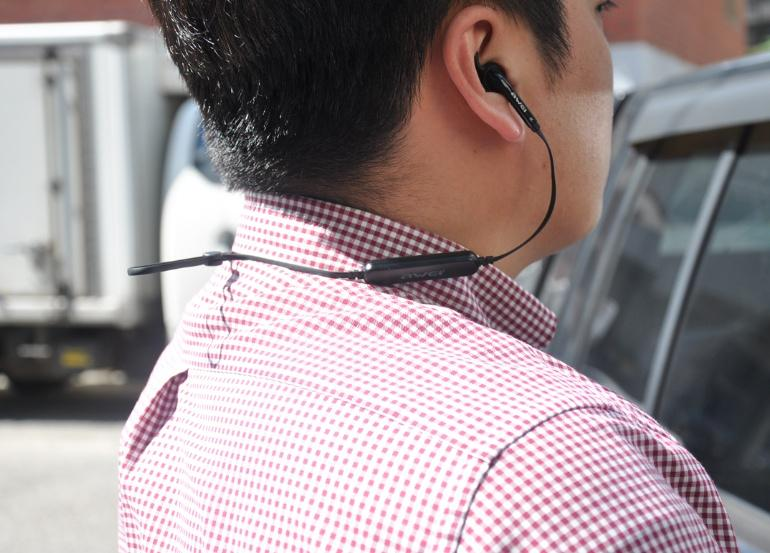earphone: (463, 55, 552, 142)
